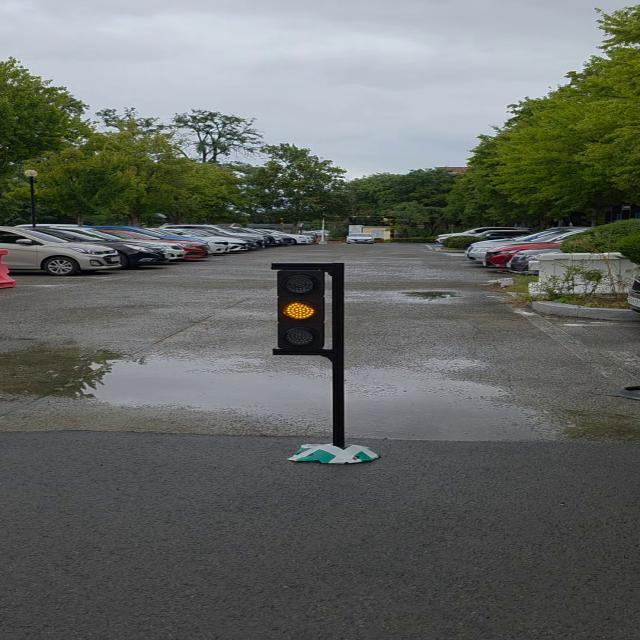yellow: (277, 264, 329, 356)
